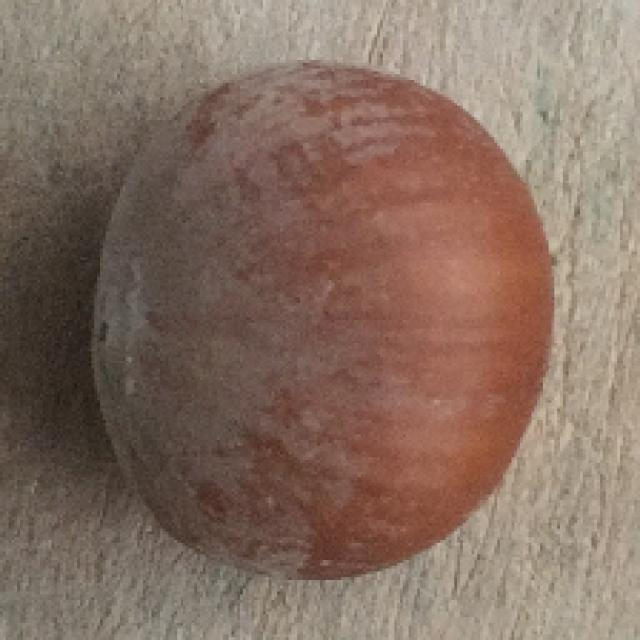qualityHazelnut: (86, 53, 560, 589)
